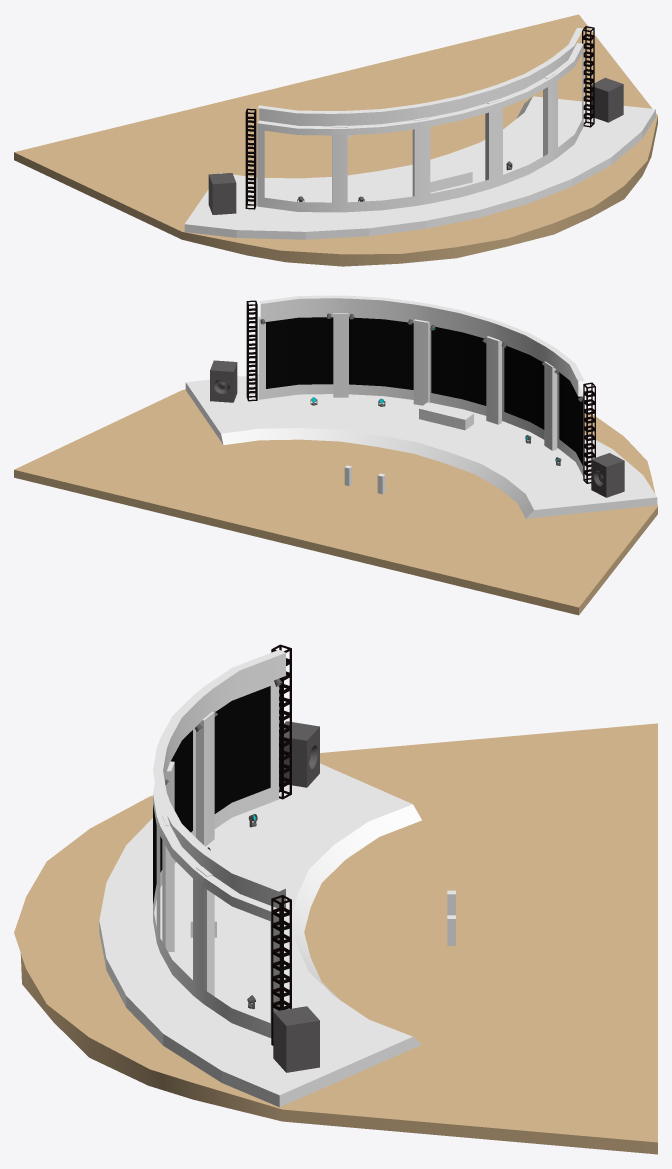
Rendered from New_Stage_Blockout.fbx.
3 renders of one model, top to bottom at view 1: azimuth 30°, elevation 25°; view 2: azimuth 150°, elevation 25°; view 3: azimuth 270°, elevation 25°, orthographic. The views are drawn at different scales.
Visible parts, largest first — view 1: Stage_Floor, Stage_Floor_Background, Stage_Screens, Stage_Speakers, Stage_Metal_Frames, Stage_Column, Stage_DJ; view 2: Stage_Floor, Stage_Screens, Stage_Floor_Background, Stage_Column, Stage_Speakers, Stage_Metal_Frames, Stage_DJ; view 3: Stage_Floor, Stage_Floor_Background, Stage_Screens, Stage_Column, Stage_Speakers, Stage_Metal_Frames.
Part boxes in pixels (x1,y1,x2,y2): Stage_Floor: (14,14,657,266); Stage_Floor_Background: (184,96,655,239); Stage_Screens: (257,28,583,212); Stage_Speakers: (208,77,623,214); Stage_Metal_Frames: (245,26,594,209); Stage_Column: (332,72,555,202); Stage_DJ: (430,165,472,192); Stage_Floor: (14,375,657,615); Stage_Screens: (258,295,584,475); Stage_Floor_Background: (185,376,657,518); Stage_Column: (333,313,557,450); Stage_Speakers: (210,360,624,497); Stage_Metal_Frames: (246,300,595,483); Stage_DJ: (419,402,473,430); Stage_Floor: (14,723,657,1154); Stage_Floor_Background: (99,763,421,1107); Stage_Screens: (153,650,285,1037); Stage_Column: (162,711,214,996); Stage_Speakers: (273,721,319,1072); Stage_Metal_Frames: (271,644,291,1045).
Size of the model in its own units: 6049 by 1225 by 3928.
